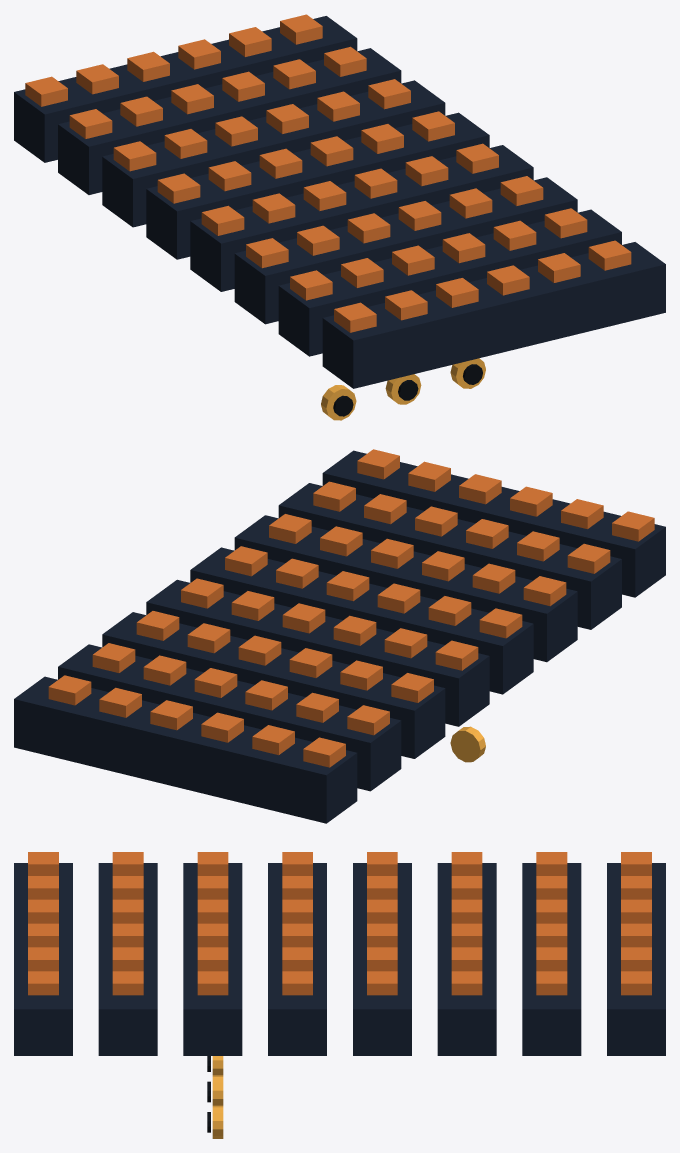
Rendered from 31_L90_Aurora1PropulsionHarnessTrays.fbx.
3 views of the same model, one above another, from view 1: azimuth 30°, elevation 25°; view 2: azimuth 150°, elevation 25°; view 3: azimuth 270°, elevation 25° (orthographic). The views are drawn at different scales.
Visible parts, largest first — view 1: L90_Aurora1PropulsionHarnessTrays, L90_Aurora1PropulsionHarnessTrays_Part_0004; view 2: L90_Aurora1PropulsionHarnessTrays, L90_Aurora1PropulsionHarnessTrays_Part_0004; view 3: L90_Aurora1PropulsionHarnessTrays.
Boxes of the visible parts, x1=… form: L90_Aurora1PropulsionHarnessTrays: x1=14, y1=14, x2=665, y2=388; L90_Aurora1PropulsionHarnessTrays_Part_0004: x1=321, y1=385, x2=356, y2=420; L90_Aurora1PropulsionHarnessTrays: x1=14, y1=449, x2=665, y2=823; L90_Aurora1PropulsionHarnessTrays_Part_0004: x1=450, y1=726, x2=485, y2=762; L90_Aurora1PropulsionHarnessTrays: x1=14, y1=852, x2=665, y2=1055.
Bounding box in the file's own units: 135 × 79 × 254.
